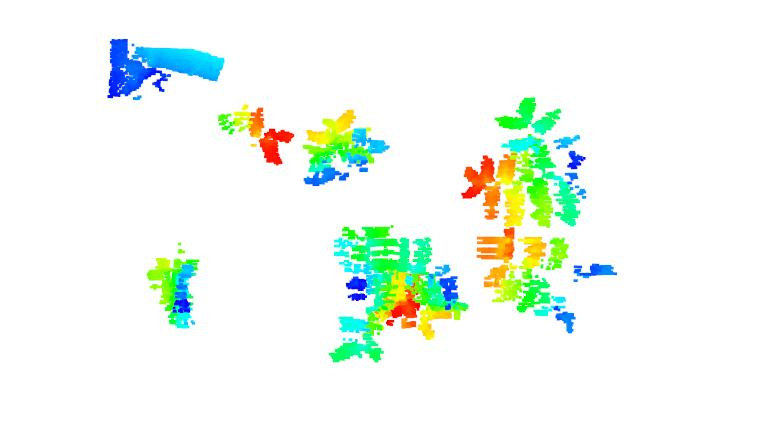chickpea: (462, 98, 597, 229), (463, 234, 620, 333), (329, 220, 394, 373), (390, 235, 469, 340), (301, 108, 392, 191), (142, 243, 202, 330), (217, 104, 296, 167)
